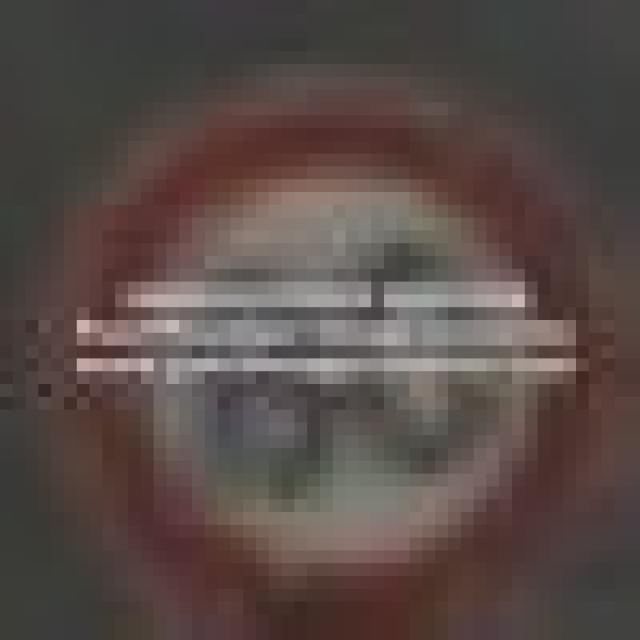speed_limit_50: (51, 90, 627, 627)
